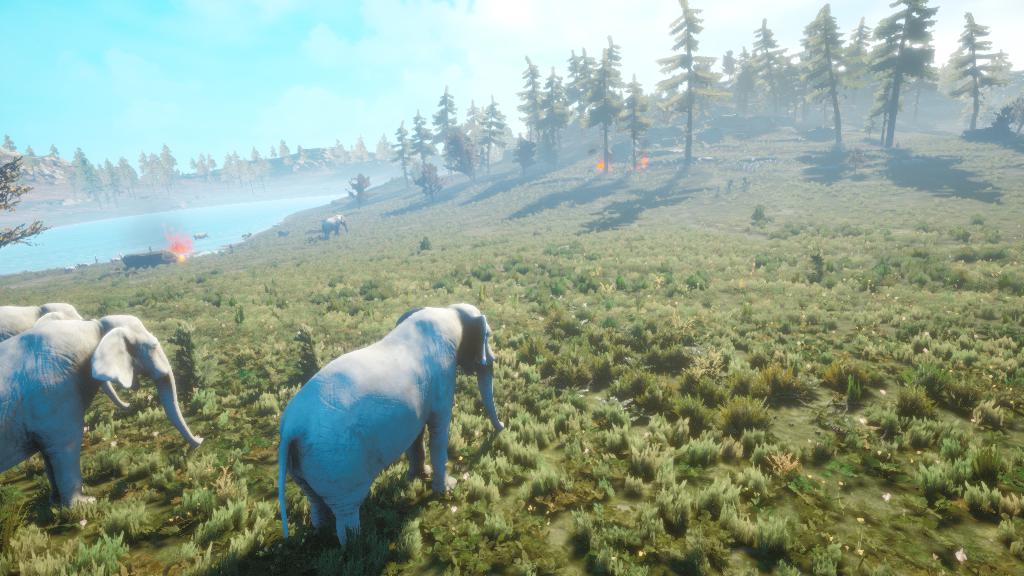Fire: (630, 147, 660, 175), (588, 156, 618, 179)
elephant: (268, 288, 513, 561), (0, 309, 212, 540), (309, 211, 354, 246)
